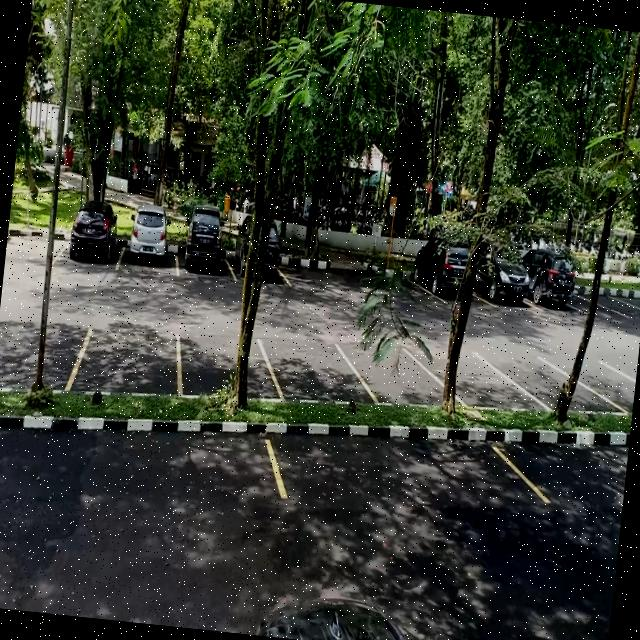empty: (0, 411, 283, 526), (270, 422, 524, 524), (76, 325, 182, 405), (176, 332, 276, 408), (270, 338, 362, 414), (0, 316, 82, 398), (357, 341, 449, 411), (452, 348, 528, 416), (519, 353, 591, 414), (4, 216, 64, 270)
occupied: (474, 245, 536, 312), (175, 217, 236, 282), (408, 242, 469, 307), (118, 218, 182, 274), (59, 216, 122, 270)
